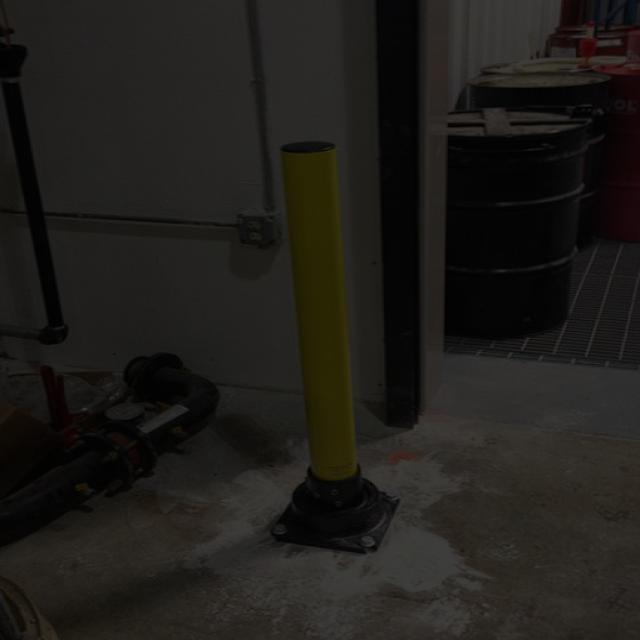obstacle: (276, 137, 360, 500)
